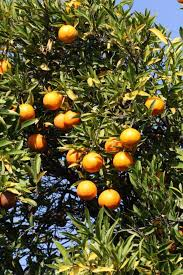orange: (97, 189, 124, 212), (146, 93, 167, 120), (60, 110, 87, 130), (42, 91, 67, 111), (120, 125, 146, 144), (77, 179, 100, 200), (114, 152, 136, 171), (57, 24, 78, 43), (84, 154, 105, 173), (26, 132, 47, 150), (18, 104, 36, 120)
